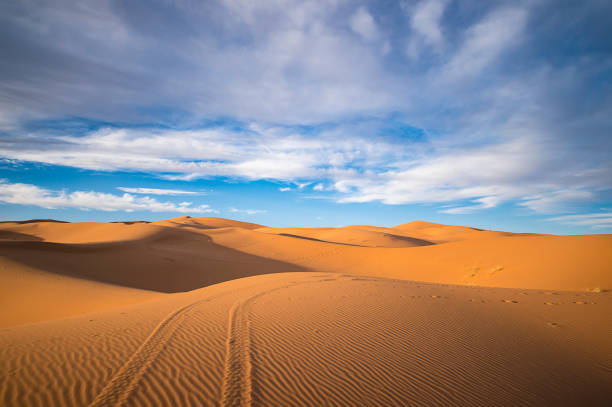vehicle_track: (89, 291, 232, 406), (221, 278, 335, 406), (89, 298, 211, 406), (221, 276, 317, 405)
